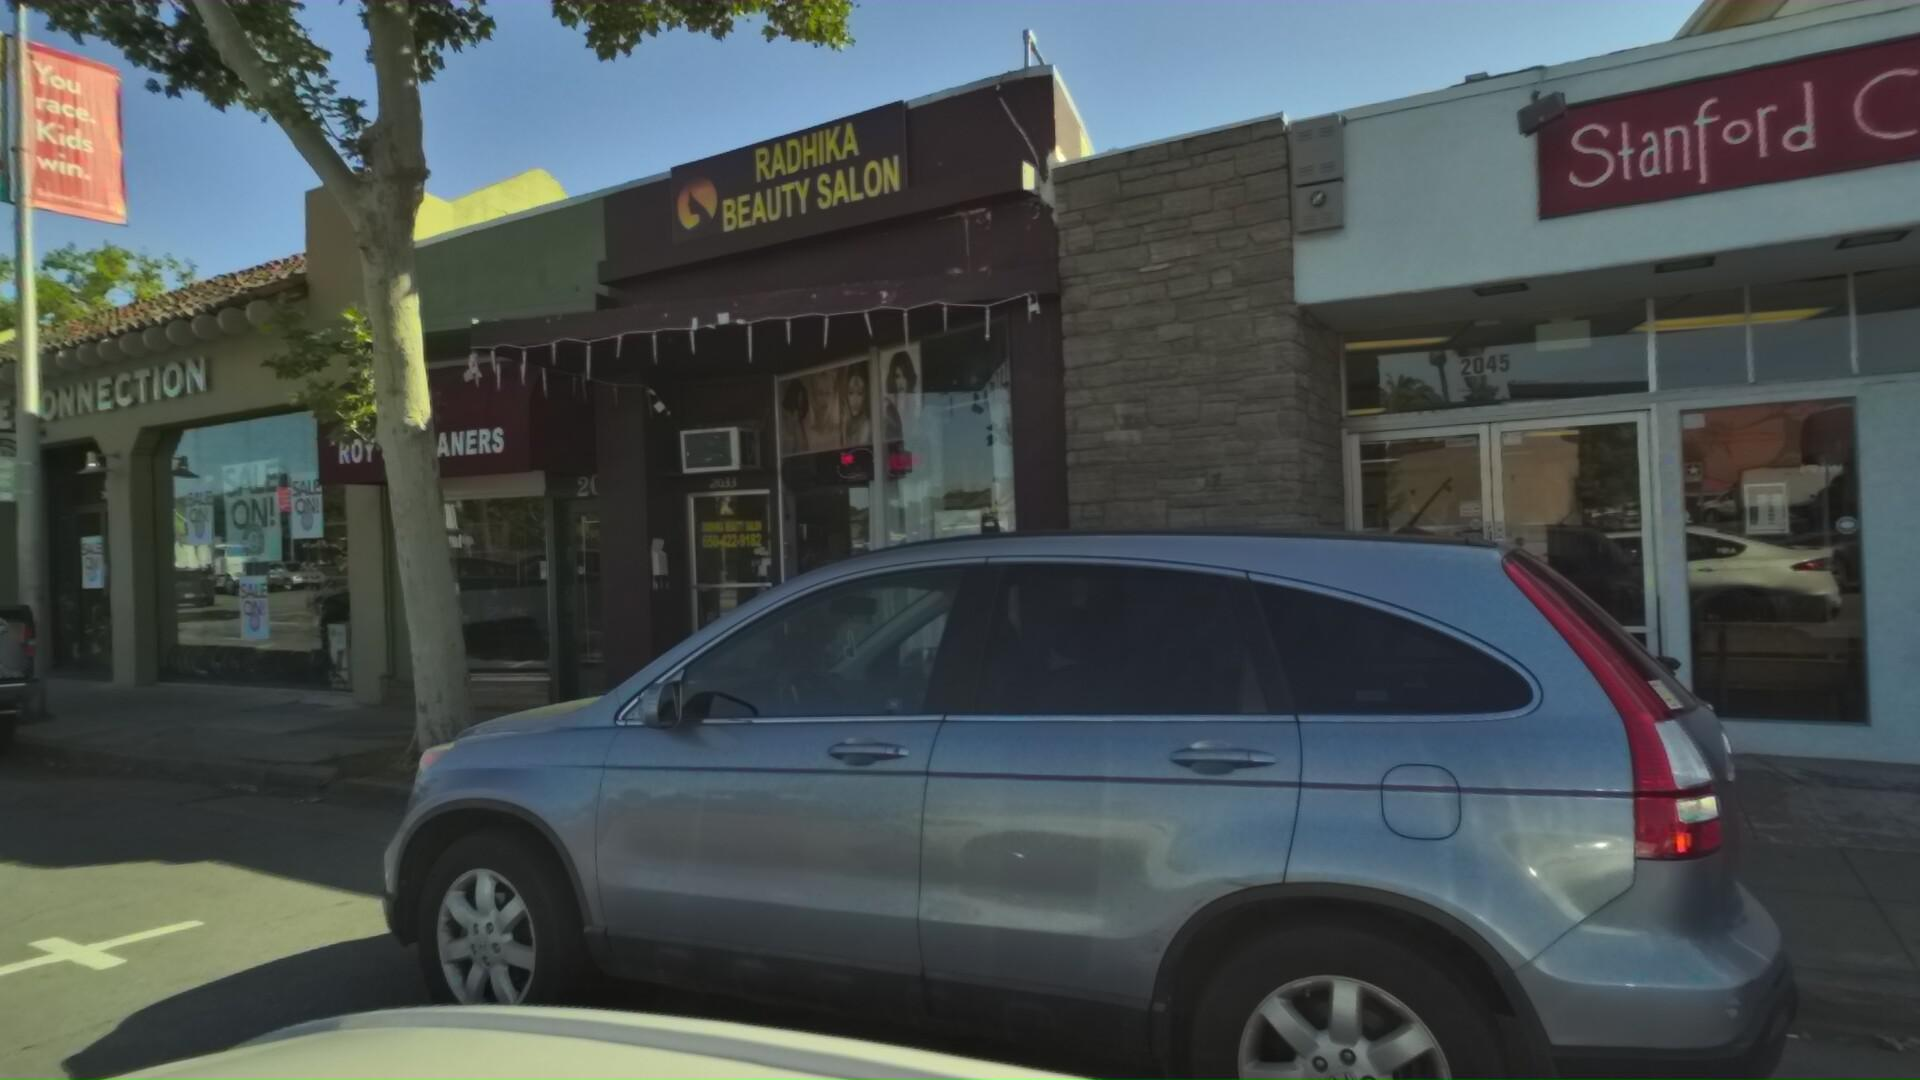car: (214, 405, 1915, 1080), (0, 500, 73, 802)
